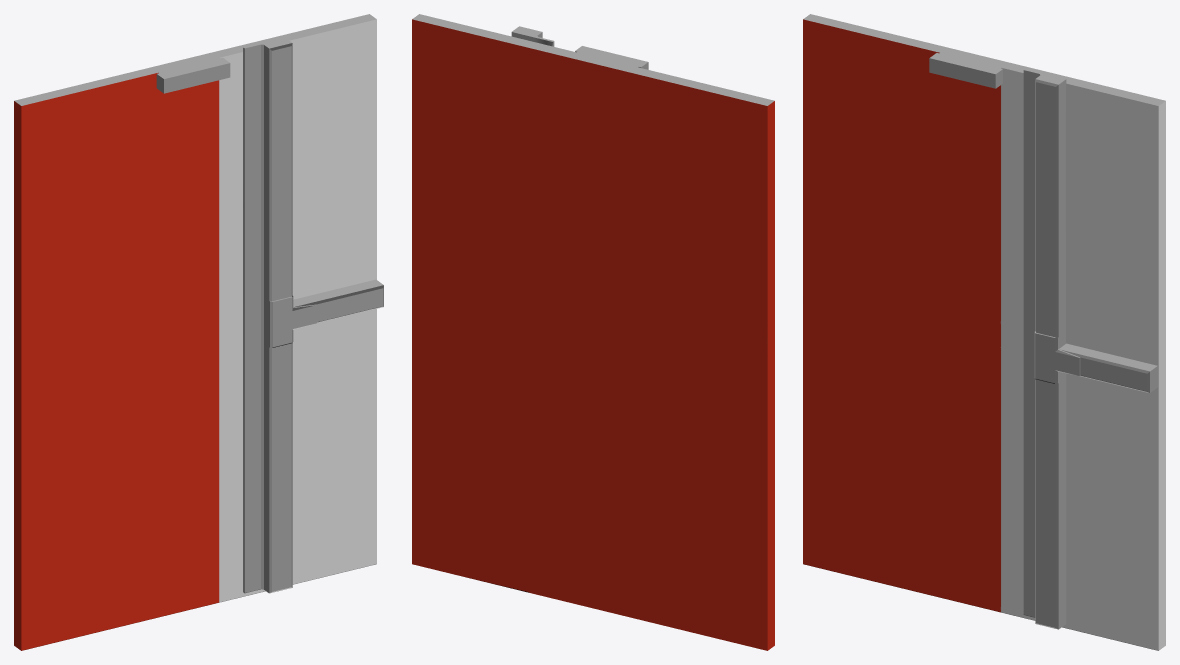
Rendered from Entrance02.FBX.
3 renders of one model, left to right at view 1: azimuth 30°, elevation 25°; view 2: azimuth 150°, elevation 25°; view 3: azimuth 330°, elevation 25°, orthographic.
Visible parts, largest first — view 1: Box001; view 2: Box001; view 3: Box001.
Part boxes in pixels (bbox=[...]): Box001: bbox=[14, 14, 383, 650]; Box001: bbox=[412, 14, 774, 650]; Box001: bbox=[803, 14, 1165, 650].
Bounding box in the file's own units: 356 × 525 × 29.21.
